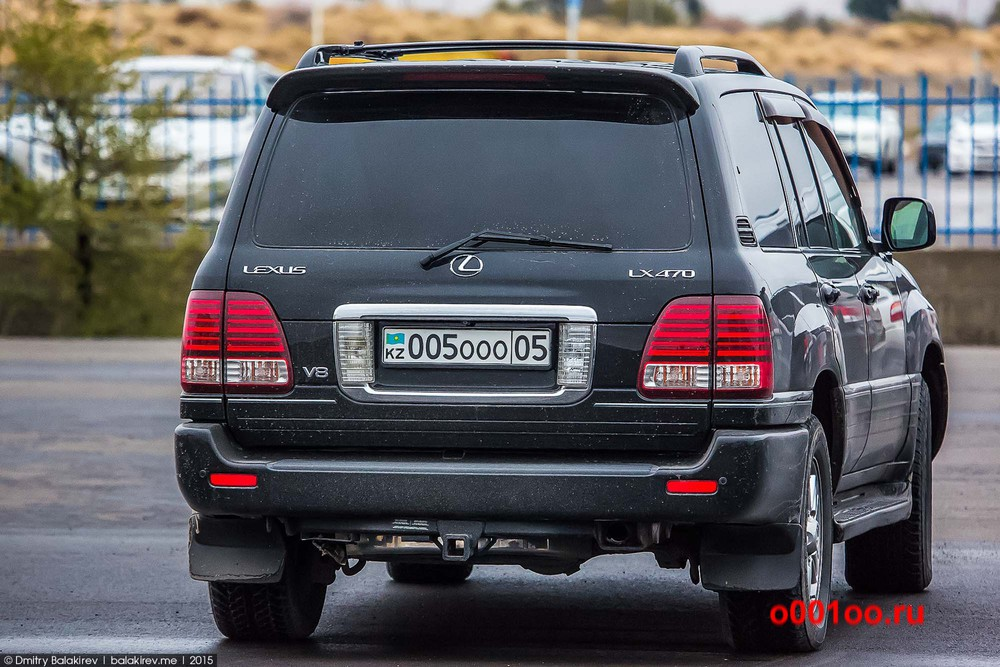license_plate: (383, 322, 559, 369)
